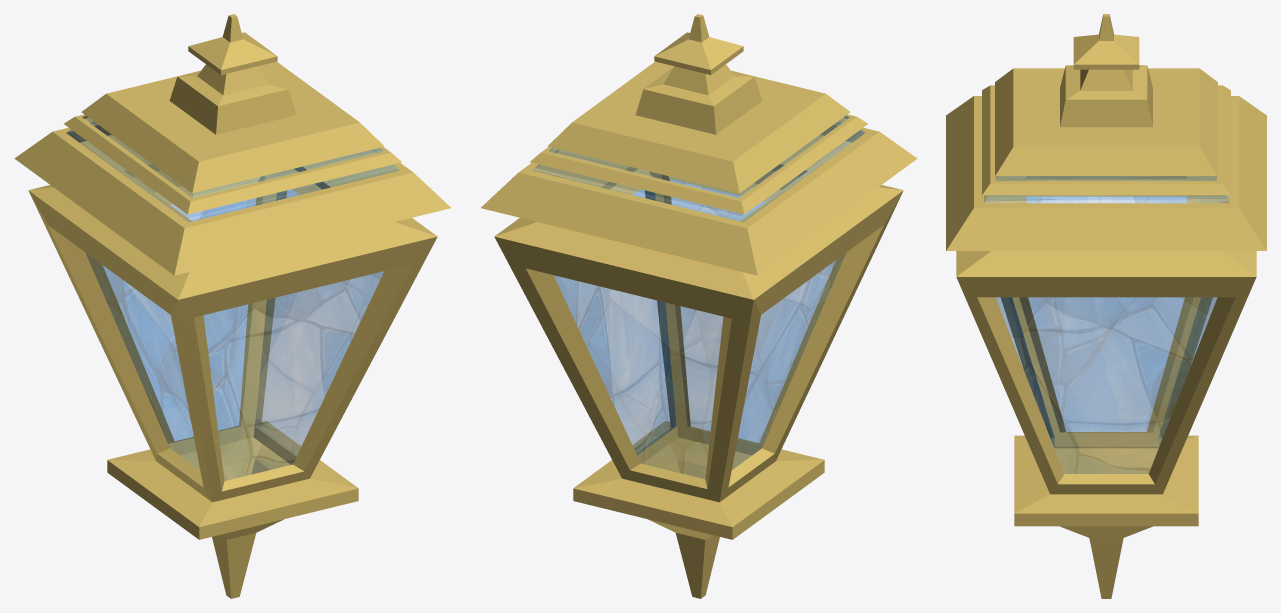
The model's file is lanternCompressed.glb.
The picture shows the model from 3 angles, left to right: view 1: azimuth 30°, elevation 25°; view 2: azimuth 150°, elevation 25°; view 3: azimuth 270°, elevation 25°; orthographic projection.
Parts seen in each view (by area): view 1: lanternHP; view 2: lanternHP; view 3: lanternHP.
Part boxes in pixels (box(x1,y1,x2,y2)): lanternHP: box(14, 14, 450, 598); lanternHP: box(481, 14, 917, 598); lanternHP: box(946, 14, 1266, 598).
Size of the model in its own units: 0.9999 by 2 by 0.9999.
Materials: 2 (1 with a texture image).
